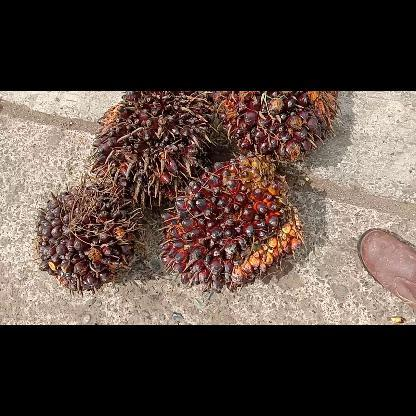Kurang masak: (157, 155, 308, 293), (88, 90, 212, 212), (32, 181, 146, 297), (206, 90, 342, 166)
